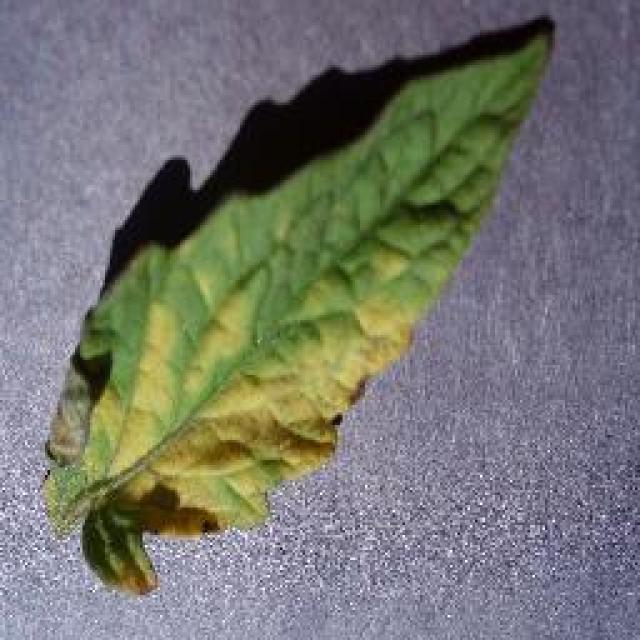Tomato mold leaf: (38, 33, 552, 545)
